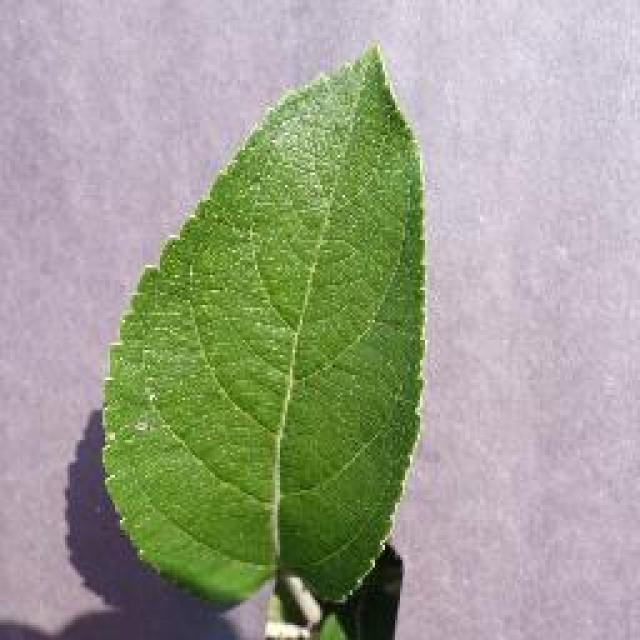apple healthy: (98, 38, 430, 612)
